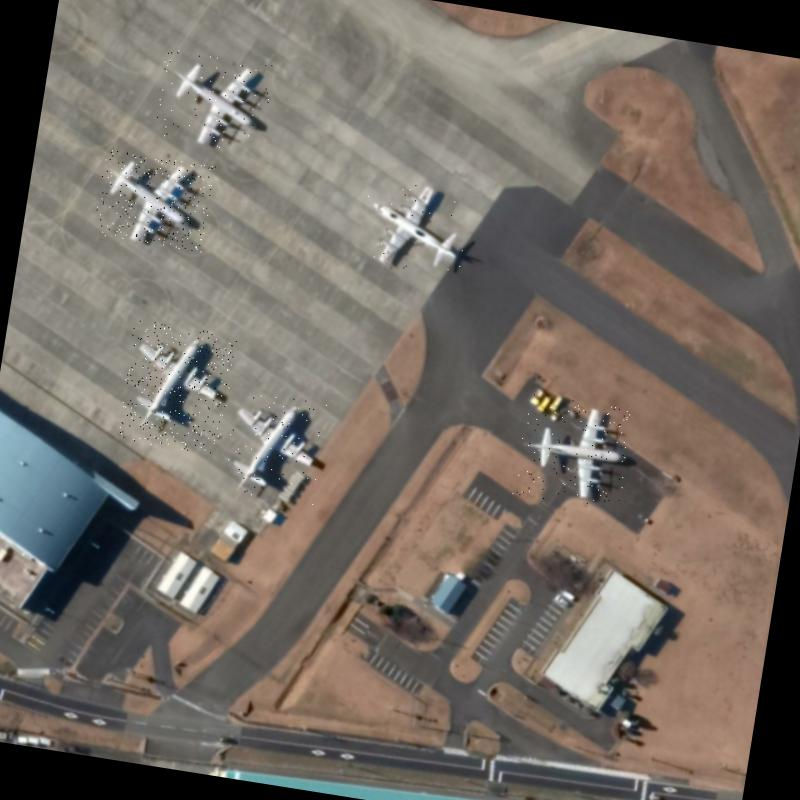A9: (115, 318, 238, 456), (512, 392, 635, 510), (350, 169, 476, 284), (150, 47, 276, 160), (220, 388, 328, 506), (92, 149, 215, 252)
